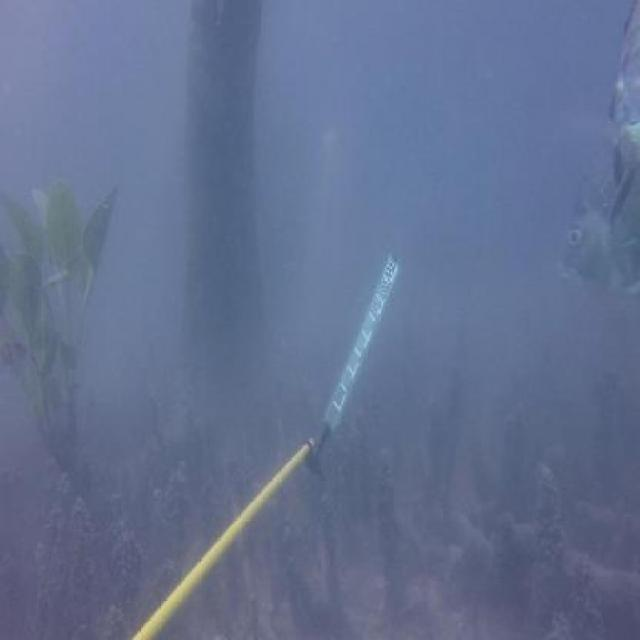acanthopagrus_palmaris: (554, 160, 640, 302), (604, 6, 640, 198)
